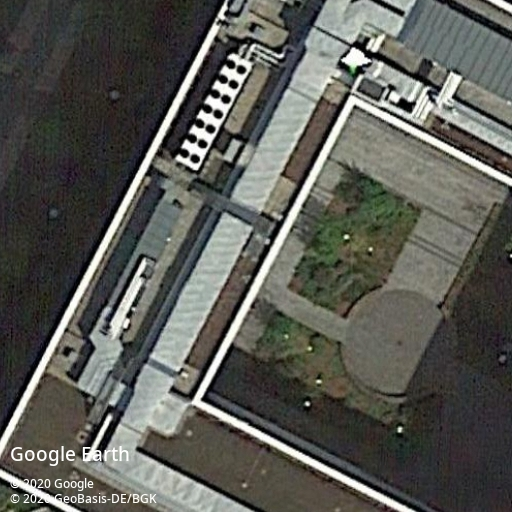Chiller: (174, 52, 253, 173)
